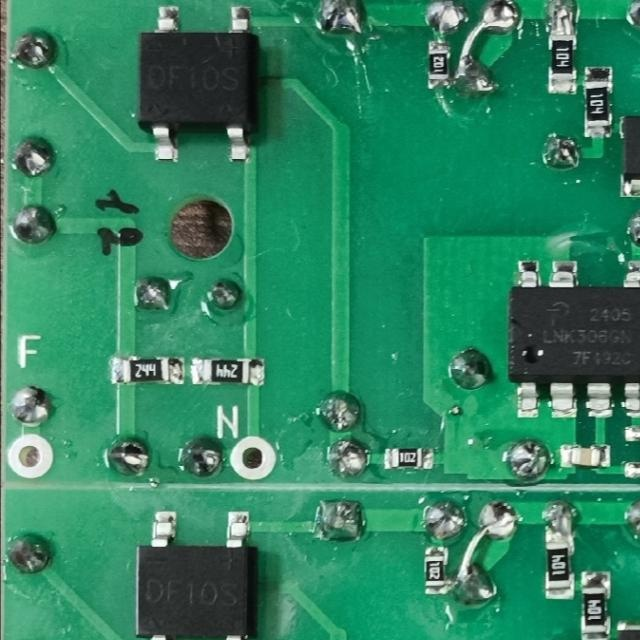chip-capacitor: (557, 443, 611, 468)
chip-resistor: (582, 63, 614, 139), (109, 354, 184, 386), (189, 356, 266, 387), (578, 570, 610, 640), (544, 532, 575, 600), (547, 30, 578, 95), (380, 445, 436, 471), (422, 545, 450, 596), (425, 36, 451, 88)
ic: (505, 257, 640, 419), (135, 4, 258, 164), (131, 507, 254, 640)
